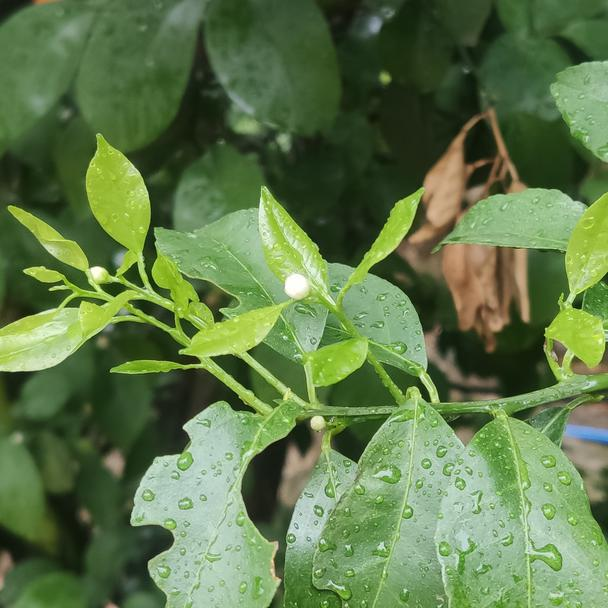shoot: (2, 143, 257, 398), (236, 193, 425, 393)
